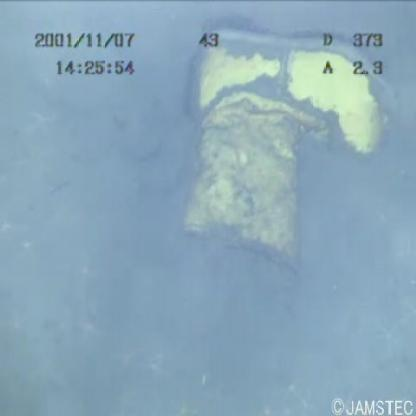Rác: (160, 19, 402, 291)
